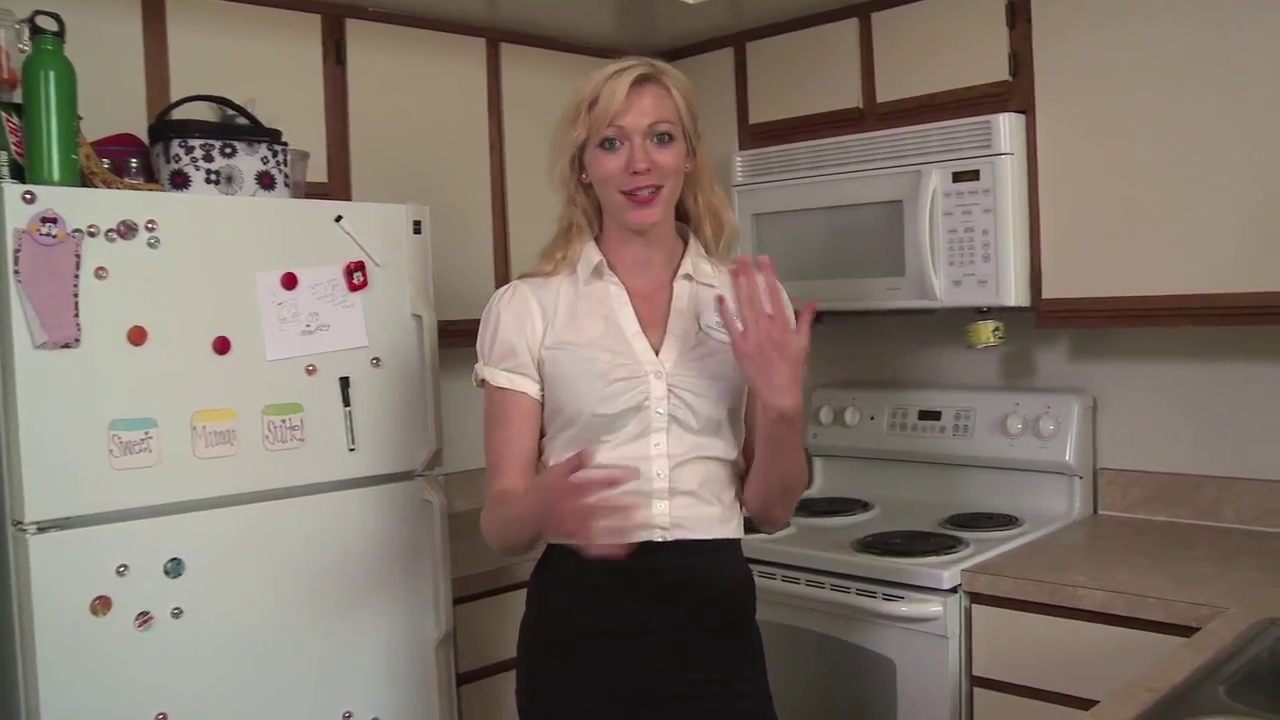person: (480, 57, 819, 720)
